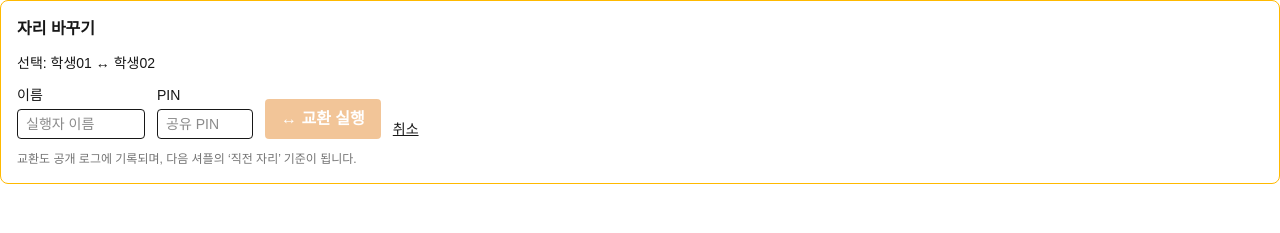
Test case: SwapControls › 401 → PIN 오류 메시지
Step 1. Type "김철수" into the field labelled "이름" → (81, 124), box [17,109,145,139]
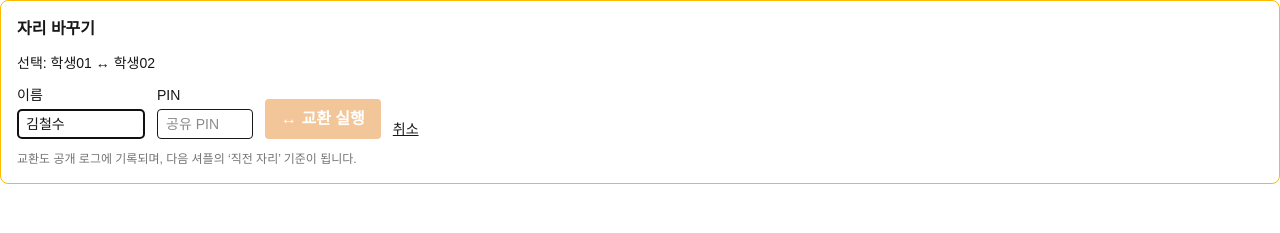
Step 2. Type "9999" into the password field labelled "PIN" → (205, 124), box [157,109,253,139]
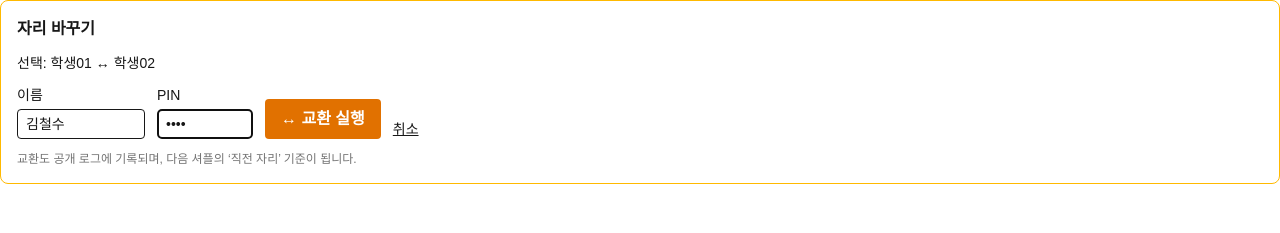
Step 3. Click the button "↔ 교환 실행" → (323, 119), box [265,99,381,139]
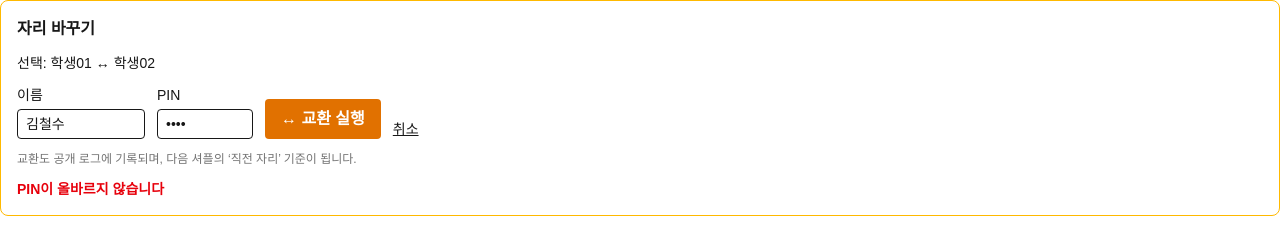
Now the text "PIN이 올바르지 않습니다" is shown, box [17,181,164,197]
